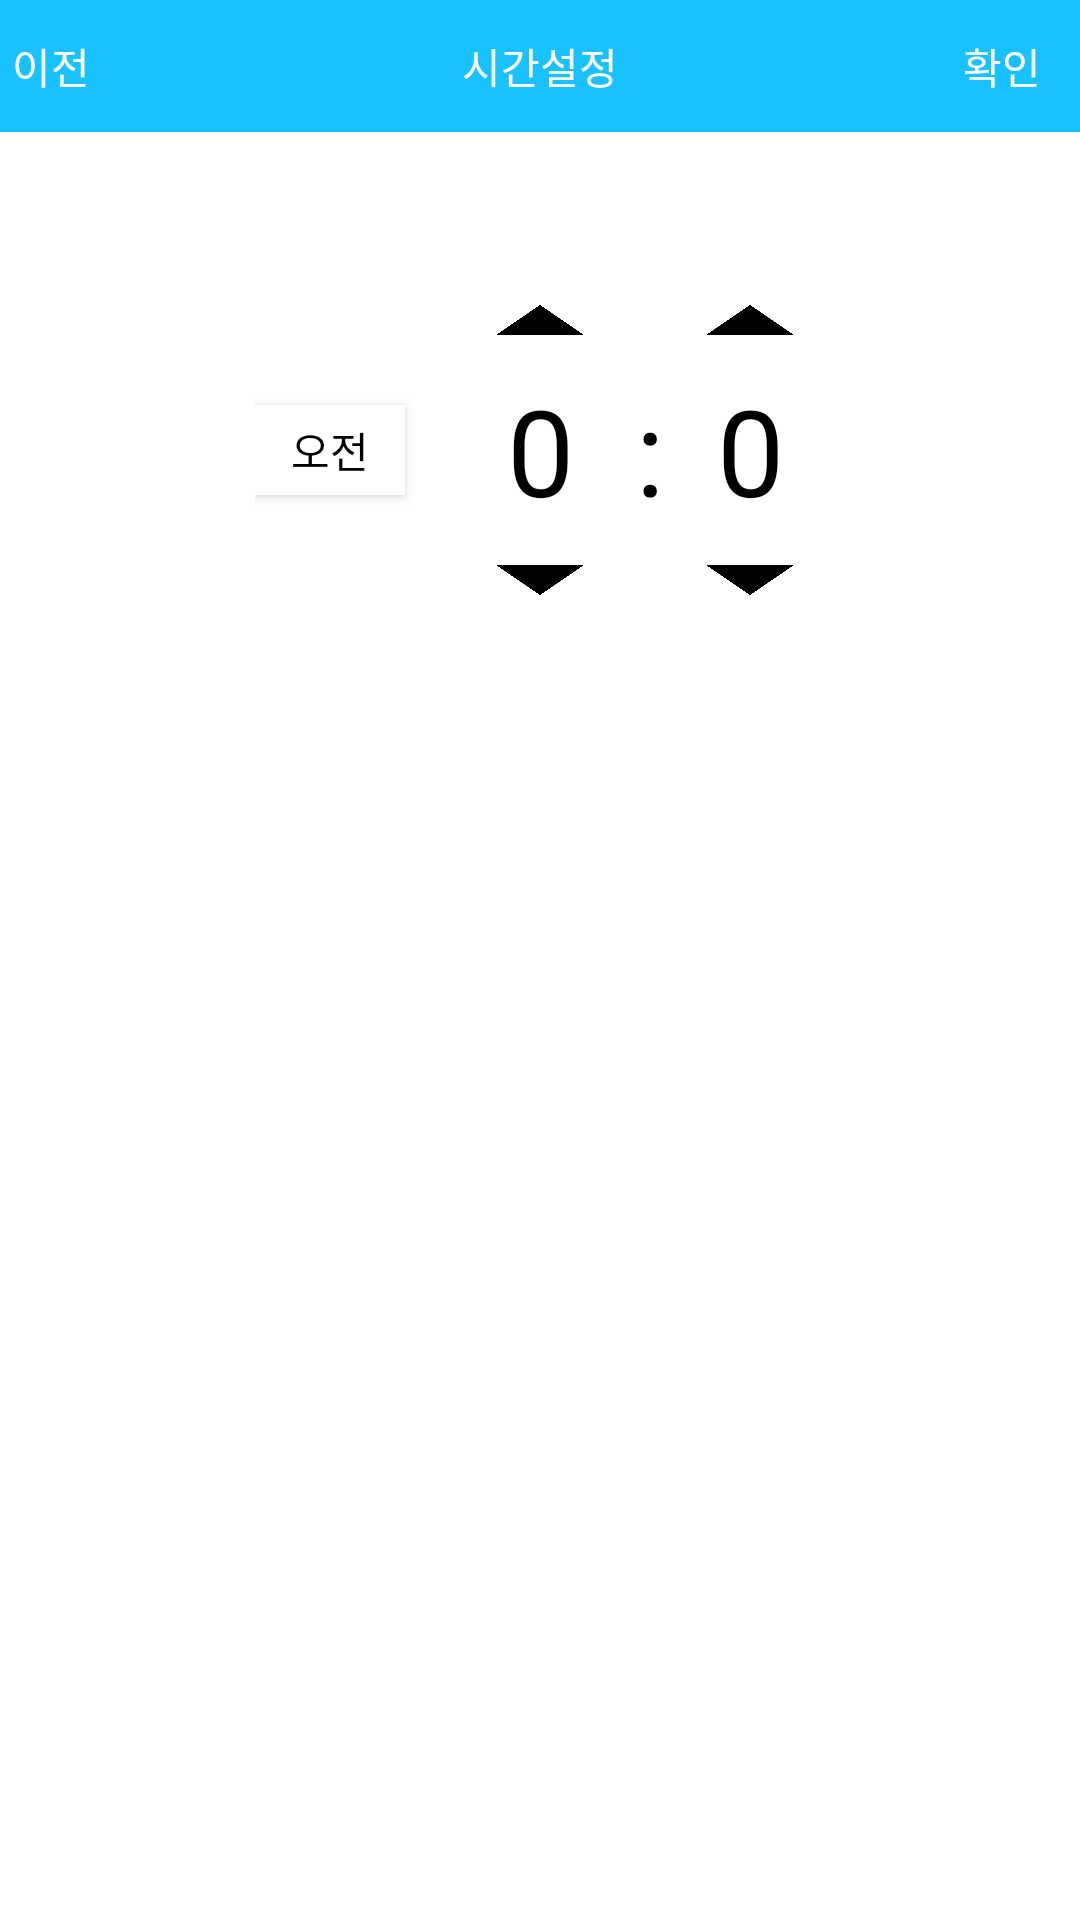

Point at icon controls on the screen. Image size 1080px×1920px, points as [x,y].
down: [540,580], [750,580]
